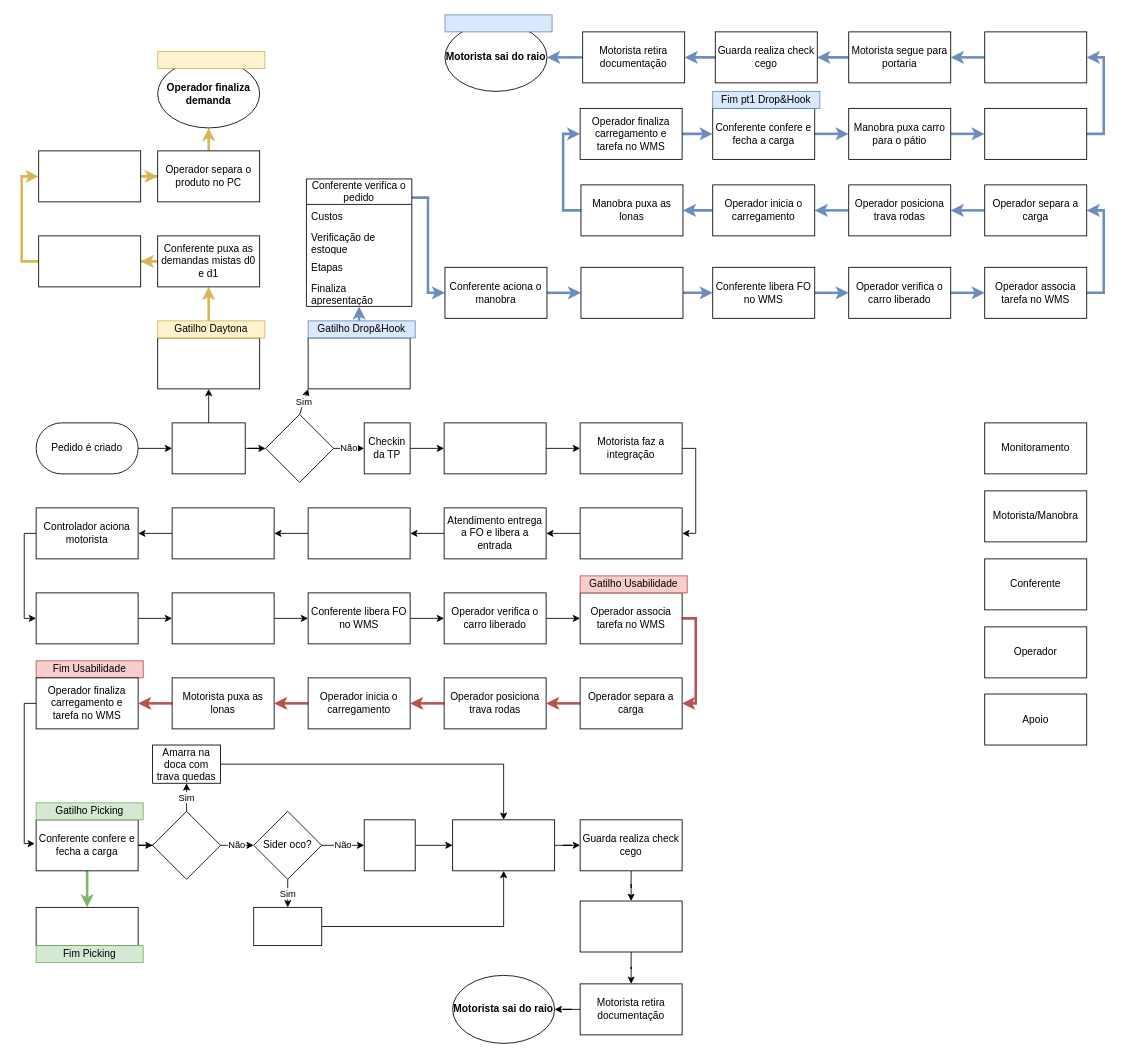
This 1126x1058 diagram has some shape labels left out. Here are the shapes that lost their labels. From the top down, the centre of each, then its label:
At pixel 498 23: "Fim pt2 Drop&Hook".
At pixel 211 59: "Fim Daytona".
At pixel 1035 57: "Motorista faz checkin de giro".
At pixel 1035 133: "Atendimento verifica NFs, CTe e VP".
At pixel 89 176: "Operador associa a tarefa".
At pixel 89 261: "Conferente libera as demandas".
At pixel 631 292: "Manobra posiciona carro na doca".
At pixel 208 363: "FO faz integração com WMS".
At pixel 358 363: "Monitoramento apresenta o pedido via Motora".
At pixel 208 448: "Pedido otimiza".
At pixel 299 448: "Drop?".
At pixel 494 448: "Motorista chega no raio".
At pixel 222 533: "Conferente aciona controlador de pátio".
At pixel 358 533: "Motorista se posiciona no pátio".
At pixel 630 533: "Atendimento faz o check do pedido".
At pixel 86 618: "Motorista se posiciona na doca".
At pixel 222 618: "Motorista prepara caminhão".
At pixel 186 844: "Carga seca?".
At pixel 389 845: "Asa delta".
At pixel 503 845: "Segue para portaria".
At pixel 86 926: "Conferente verifica picking no Workstation e ajusta caso existam erros".
At pixel 287 926: "Segue para amarração na tenda".
At pixel 630 926: "Atendimento separa e confere as NFs".
